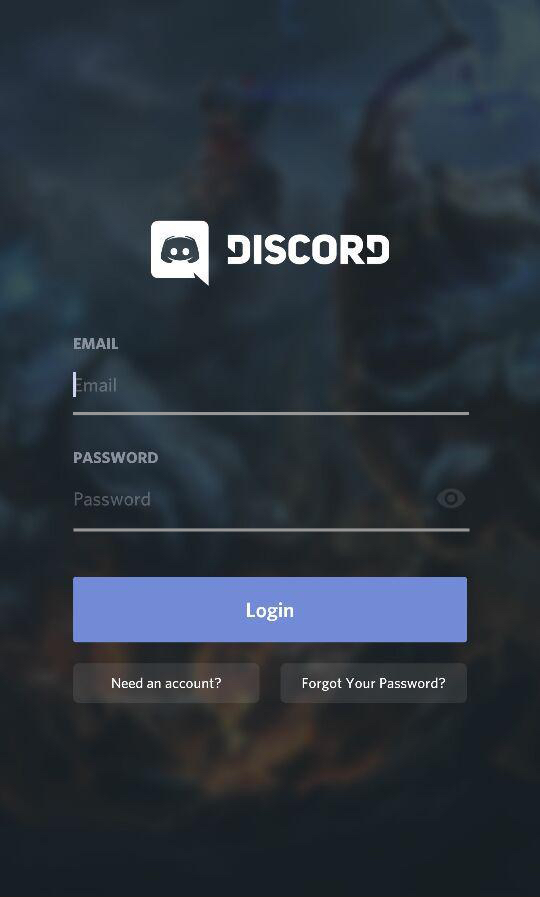BackgroundImage: (1, 1, 540, 897)
EditText: (73, 487, 470, 534), (73, 372, 467, 417)
Icon: (436, 487, 466, 509)
Image: (151, 221, 390, 288)
Text: (76, 490, 152, 508), (73, 451, 160, 465), (77, 377, 118, 393), (74, 337, 120, 351)
TextButton: (73, 577, 467, 643), (73, 662, 261, 704), (280, 662, 468, 704)
